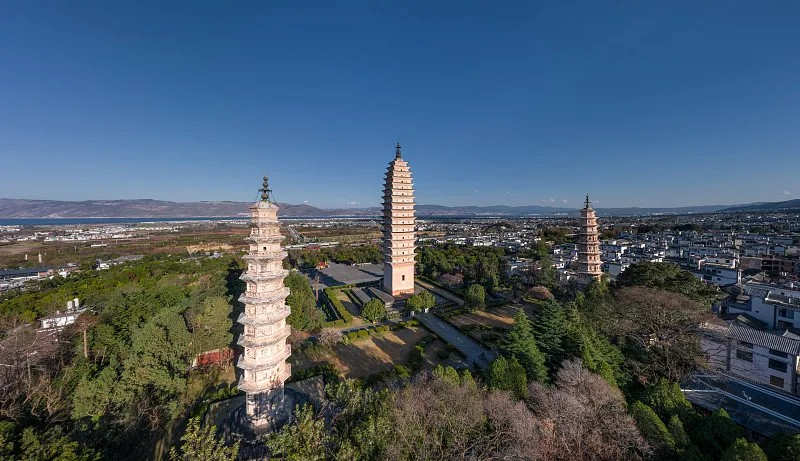ThreePagoda: (381, 141, 418, 295)
